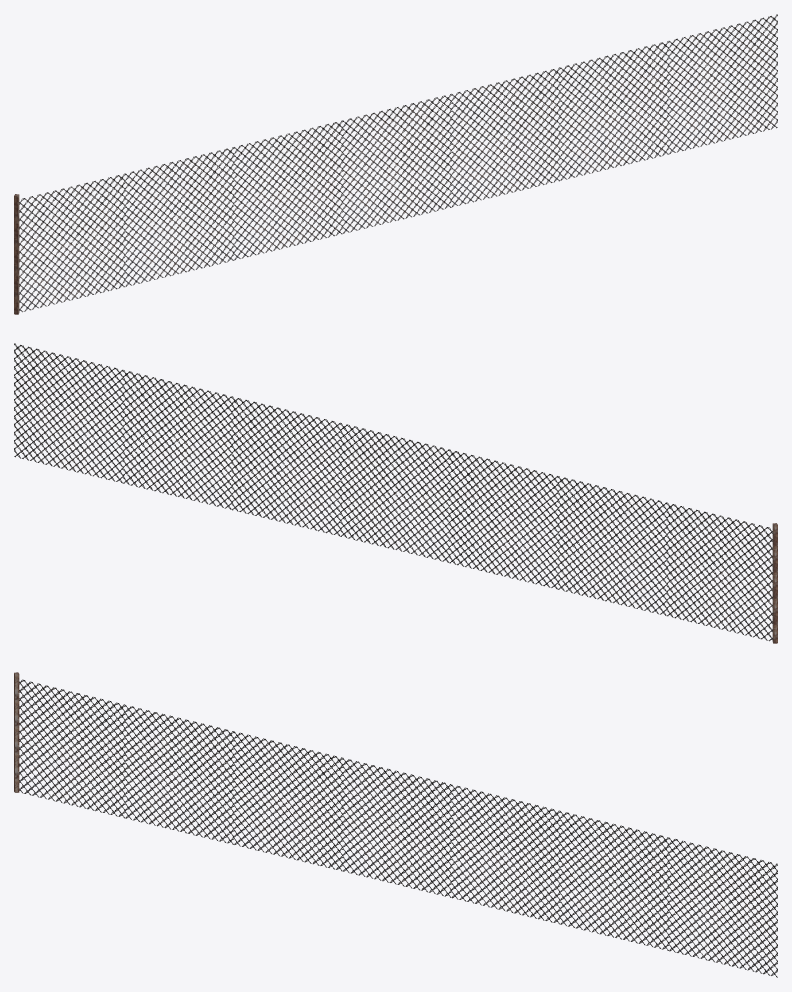
The model's file is Chainlink Fence.fbx.
3 renders of one model, top to bottom at view 1: azimuth 30°, elevation 25°; view 2: azimuth 150°, elevation 25°; view 3: azimuth 330°, elevation 25°, orthographic.
Visible parts, largest first — view 1: Chainlink Fence, Pole; view 2: Chainlink Fence, Pole; view 3: Chainlink Fence, Pole.
Boxes of the visible parts, x1,y1,x2,y2 form: Chainlink Fence: [19, 14, 777, 312]; Pole: [14, 194, 19, 314]; Chainlink Fence: [14, 343, 772, 641]; Pole: [772, 523, 777, 643]; Chainlink Fence: [19, 679, 777, 977]; Pole: [14, 672, 19, 792].
Size of the model in its own units: 1686 by 250 by 12.
Materials: 2 (2 with a texture image).
